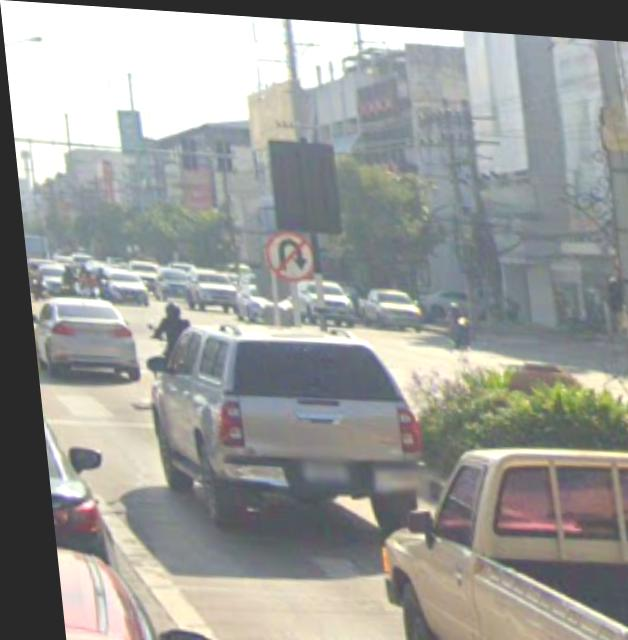not_u_turn_right: (256, 226, 312, 278)
